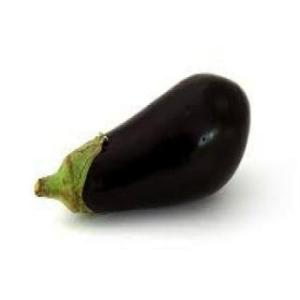eggplant: (36, 72, 250, 212)
